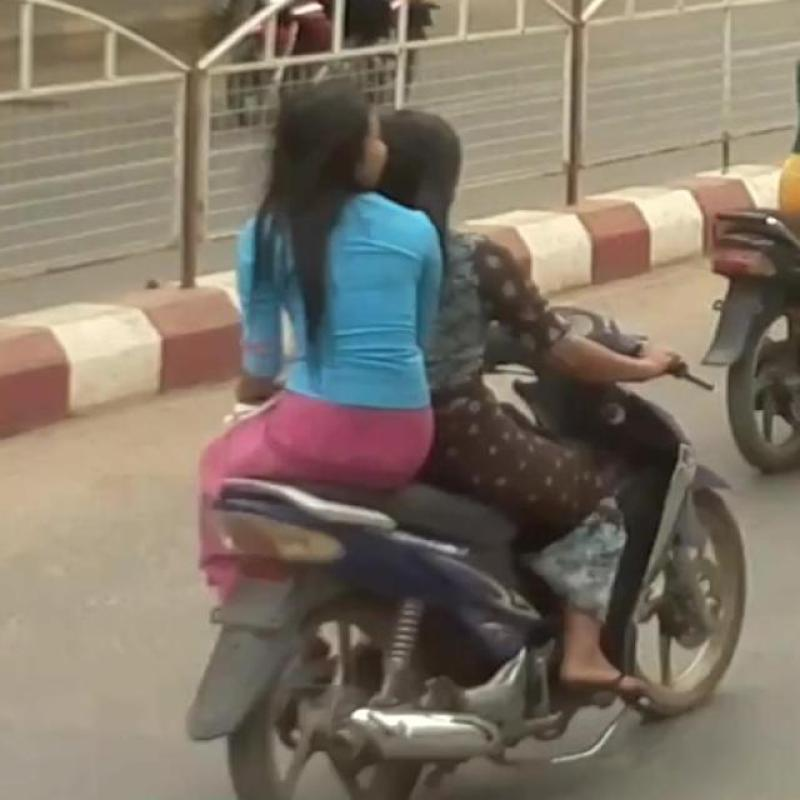nohelmet: (266, 64, 474, 244)
